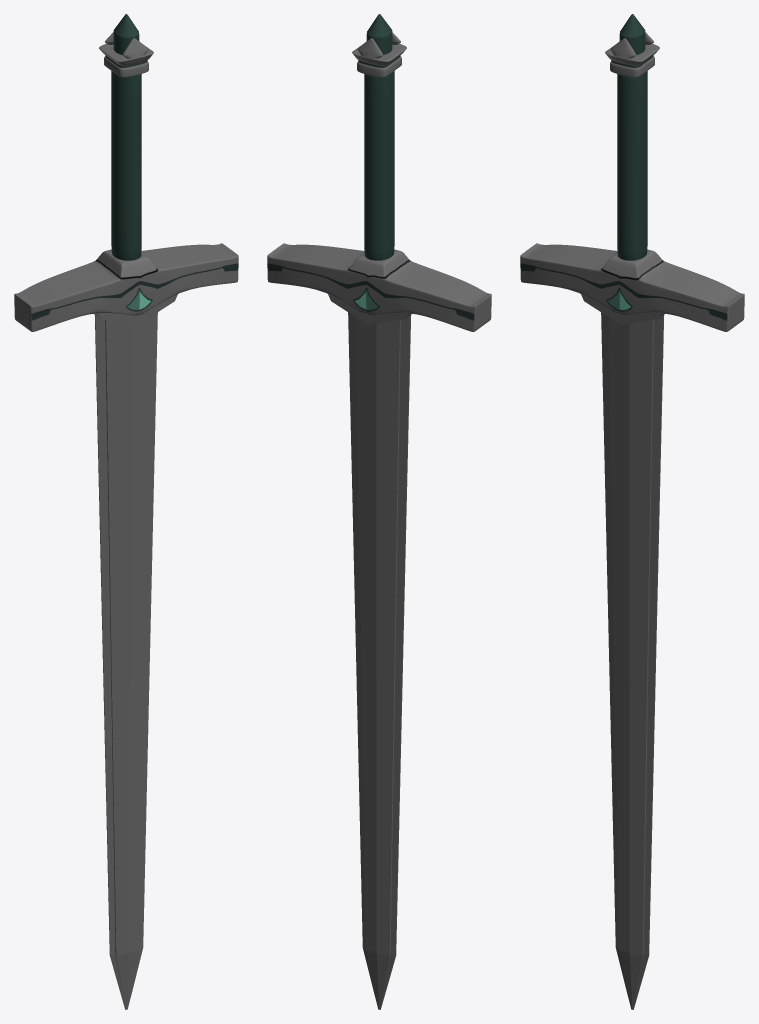
Rendered from dull_blade.glb.
3 views of the same model, side by side, from view 1: azimuth 30°, elevation 25°; view 2: azimuth 150°, elevation 25°; view 3: azimuth 330°, elevation 25° (orthographic).
Visible parts, largest first — view 1: dull blade; view 2: dull blade; view 3: dull blade.
Part boxes in pixels (x1=…): dull blade: x1=14, y1=14, x2=238, y2=1009; dull blade: x1=267, y1=14, x2=491, y2=1009; dull blade: x1=520, y1=14, x2=744, y2=1009.
Bounding box in the file's own units: 0.2798 × 1.28 × 0.0603.
Materials: 1 (1 with a texture image).
